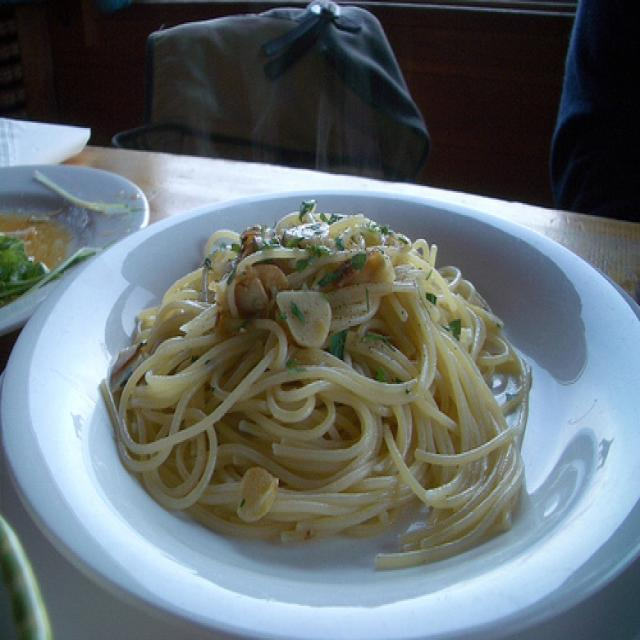Pasta: (92, 193, 556, 588)
